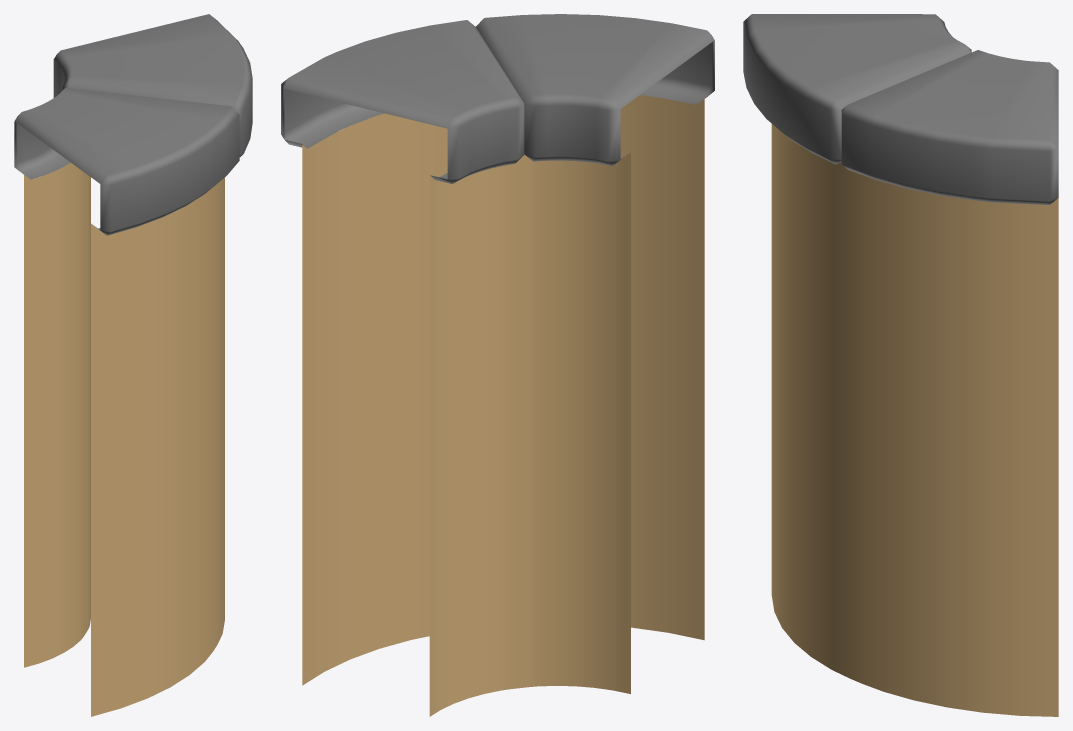
The model's file is SM_WallCurve_4_LOD0.fbx.
3 renders of one model, left to right at view 1: azimuth 30°, elevation 25°; view 2: azimuth 150°, elevation 25°; view 3: azimuth 270°, elevation 25°, orthographic. The views are drawn at different scales.
Visible parts, largest first — view 1: SM_WallCurve_4_LOD0; view 2: SM_WallCurve_4_LOD0; view 3: SM_WallCurve_4_LOD0.
Part boxes in pixels (bbox=[...]): SM_WallCurve_4_LOD0: bbox=[14, 14, 252, 716]; SM_WallCurve_4_LOD0: bbox=[281, 14, 714, 716]; SM_WallCurve_4_LOD0: bbox=[743, 14, 1058, 716].
Bounding box in the file's own units: 2.2 × 4.5 × 2.2.
